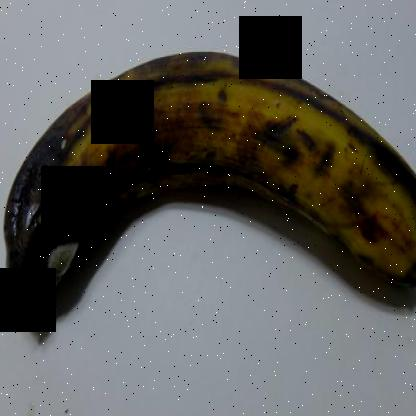overripe: (0, 26, 415, 366)
rotten: (0, 81, 154, 321)
